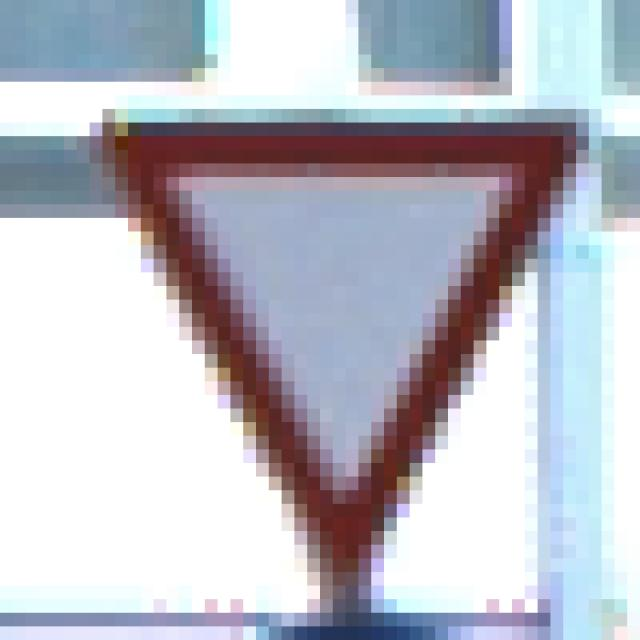Give Way: (78, 83, 577, 573)
